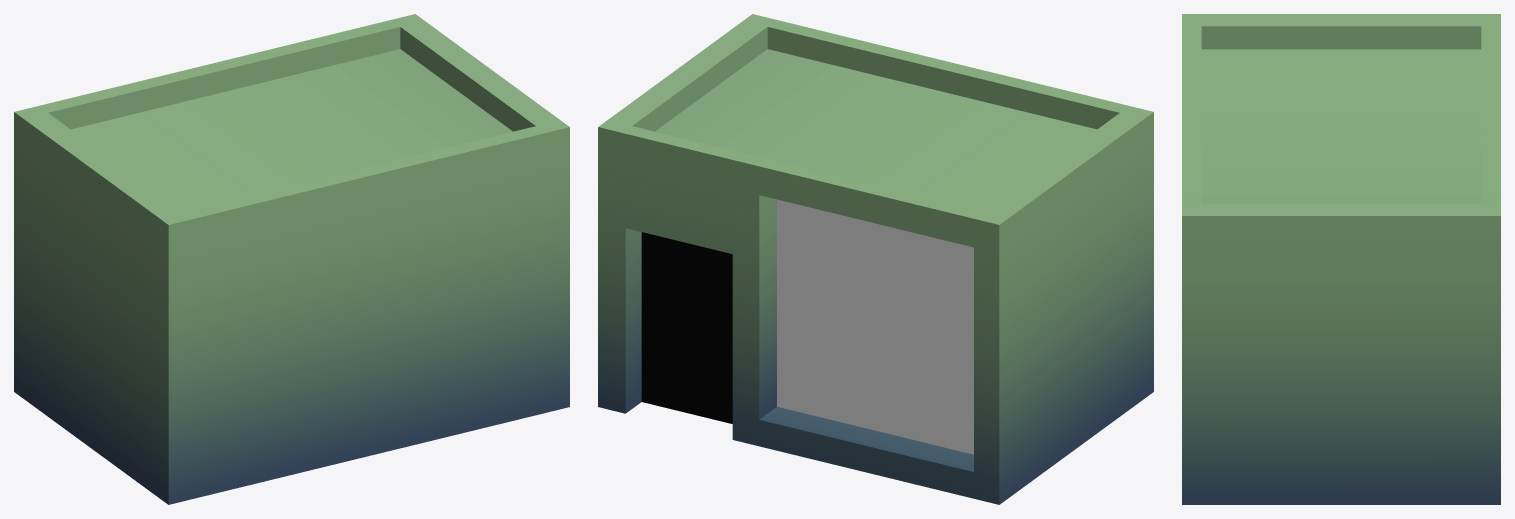
Rendered from Building4.fbx.
3 views of the same model, side by side, from view 1: azimuth 30°, elevation 25°; view 2: azimuth 150°, elevation 25°; view 3: azimuth 270°, elevation 25° (orthographic). The views are drawn at different scales.
Visible parts, largest first — view 1: Cube; view 2: Cube; view 3: Cube.
Part boxes in pixels (x1,y1,x2,y2): Cube: (14,14,569,504); Cube: (598,14,1153,504); Cube: (1182,14,1500,504).
Size of the model in its own units: 3000 by 2000 by 2000.
